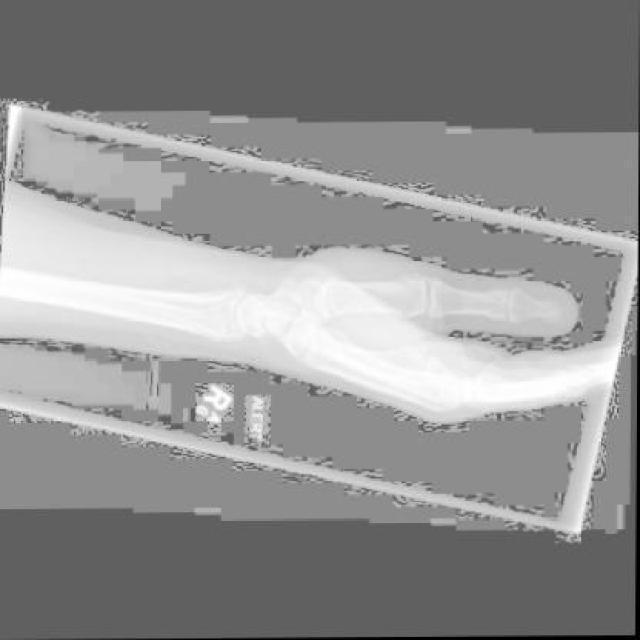Fracture: (259, 331, 273, 345)
